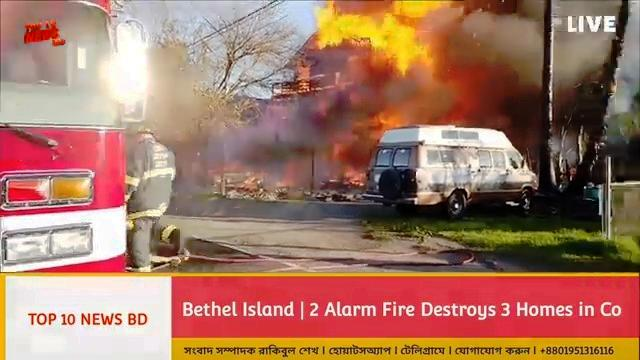fire: (312, 0, 421, 69)
smoke: (453, 3, 544, 115), (251, 108, 350, 191)
